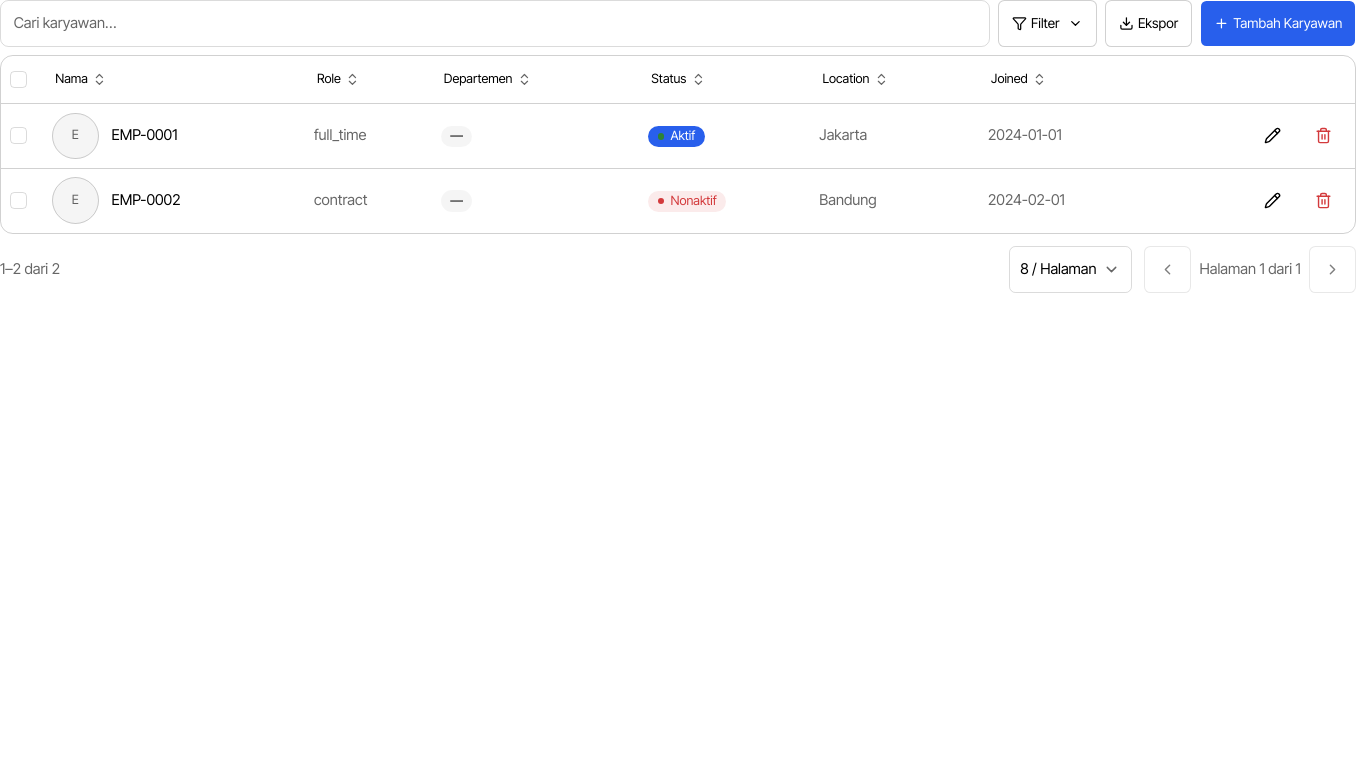
EmployeesTable › opens the create dialog from the add button
The width and height of the screenshot is (1366, 768).
Expected: the text "EMP-0001" is shown, [112, 125, 178, 147]
Click the button "Tambah Karyawan": click(1278, 23) [1200, 0, 1356, 47]
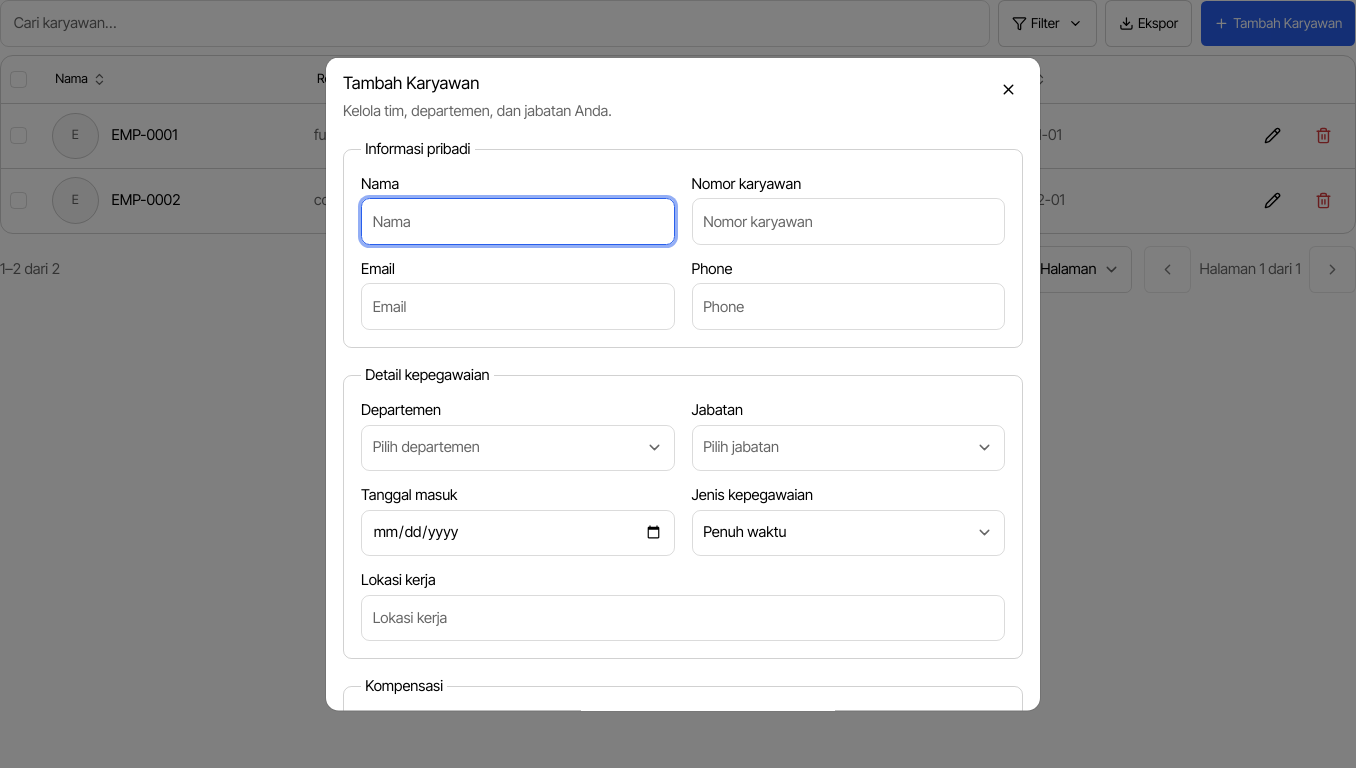
Expected: the dialog is shown, [326, 58, 1040, 710]
